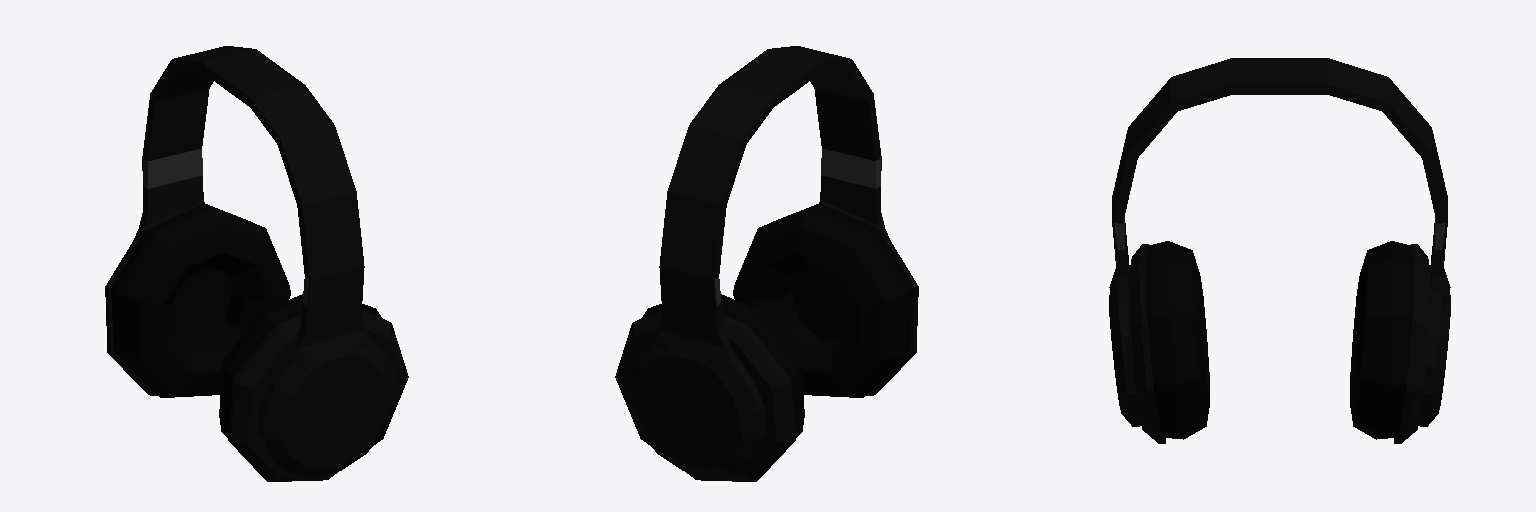
File: Headphones.obj
3 renders of one model, left to right at view 1: azimuth 30°, elevation 25°; view 2: azimuth 150°, elevation 25°; view 3: azimuth 270°, elevation 25°, orthographic.
Visible parts, largest first — view 1: Headphones_Cube; view 2: Headphones_Cube; view 3: Headphones_Cube.
Boxes of the visible parts, box(x1,y1,x2,y2) form: Headphones_Cube: box(105, 46, 408, 481); Headphones_Cube: box(615, 46, 918, 481); Headphones_Cube: box(1109, 58, 1450, 443).
Size of the model in its own units: 0.5294 by 1.07 by 0.9045.